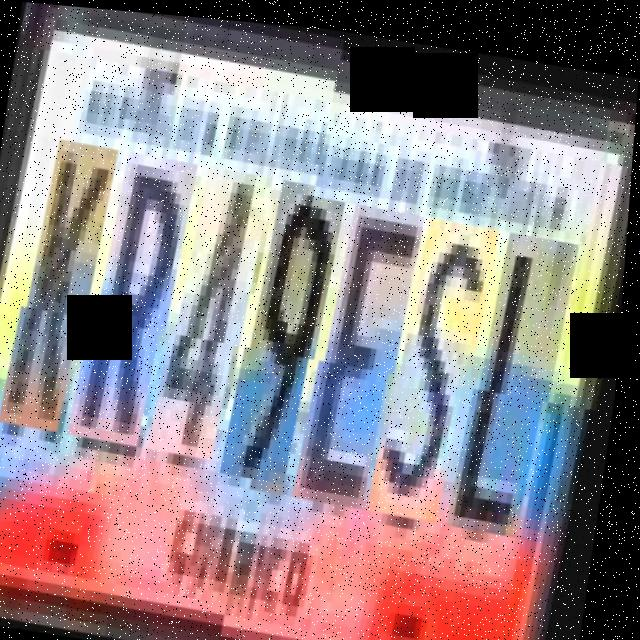4: (162, 169, 275, 469)
9: (235, 180, 350, 492)
E: (309, 193, 430, 505)
K: (12, 145, 120, 444)
L: (464, 216, 584, 529)
R: (82, 156, 201, 458)
S: (384, 204, 505, 517)
